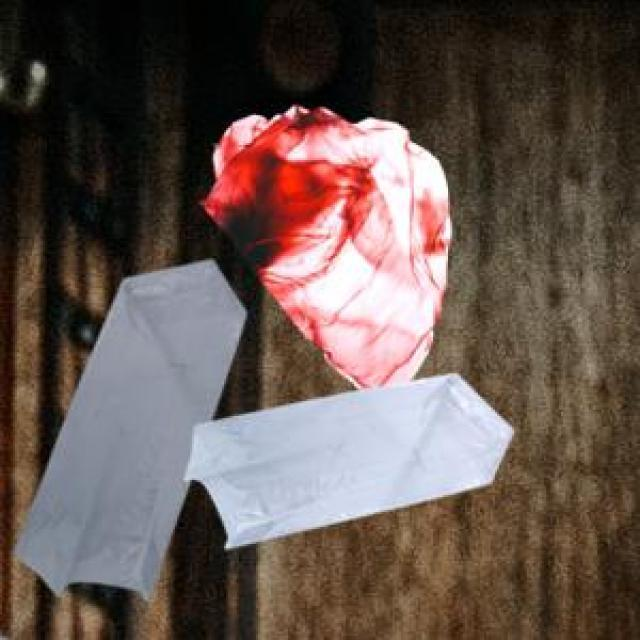waste: (41, 253, 250, 584), (198, 372, 510, 528)
